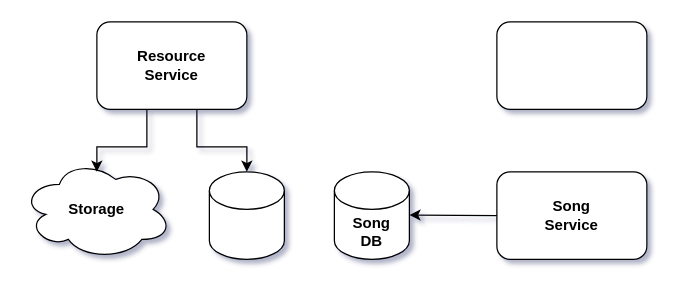
Some shapes in this 676 by 289 pixel diagram are drawn without their labels. Here are the shapes that lost their labels. From the top down, the centre of each, then its label:
At (571,65): "Resource Processor".
At (246,215): "Resource DB".
